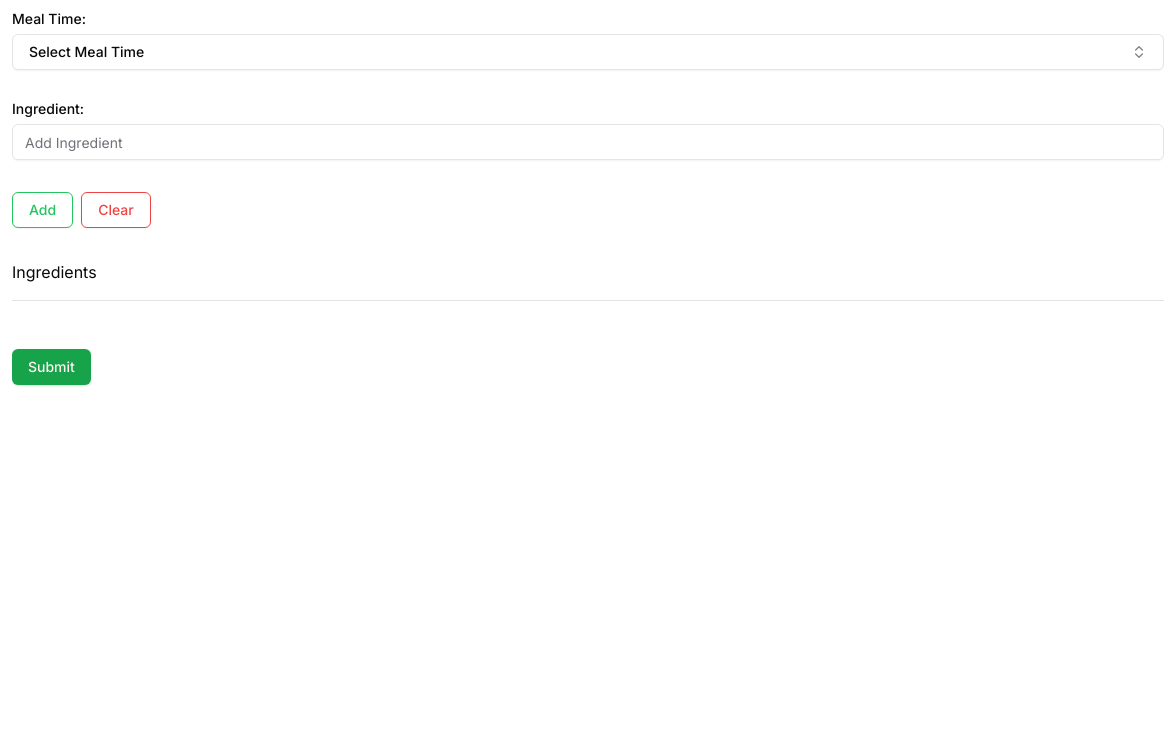
Test: CreateMealForm › clear ingredients
The image size is (1176, 732).
# Add ingredients
Type "Chicken" into the field with placeholder "Add Ingredient" at [588, 142], box [12, 124, 1164, 160]
Press Enter
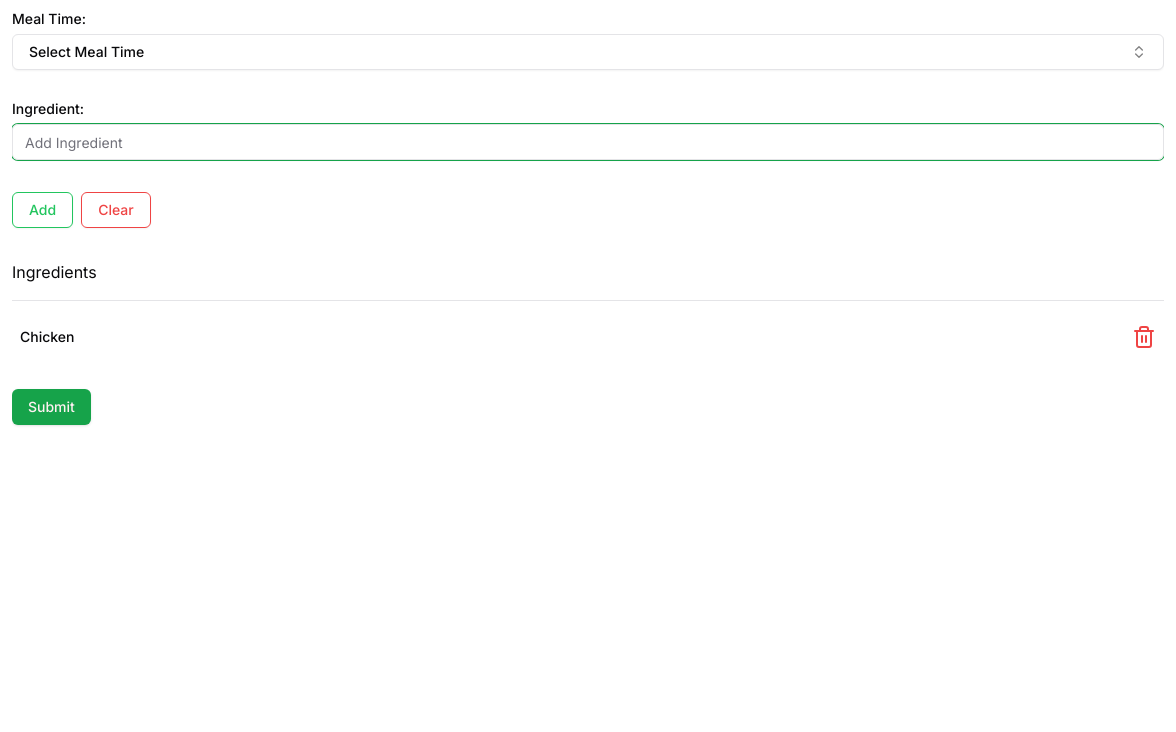
Type "Pasta" into the field with placeholder "Add Ingredient" at [588, 142], box [12, 124, 1164, 160]
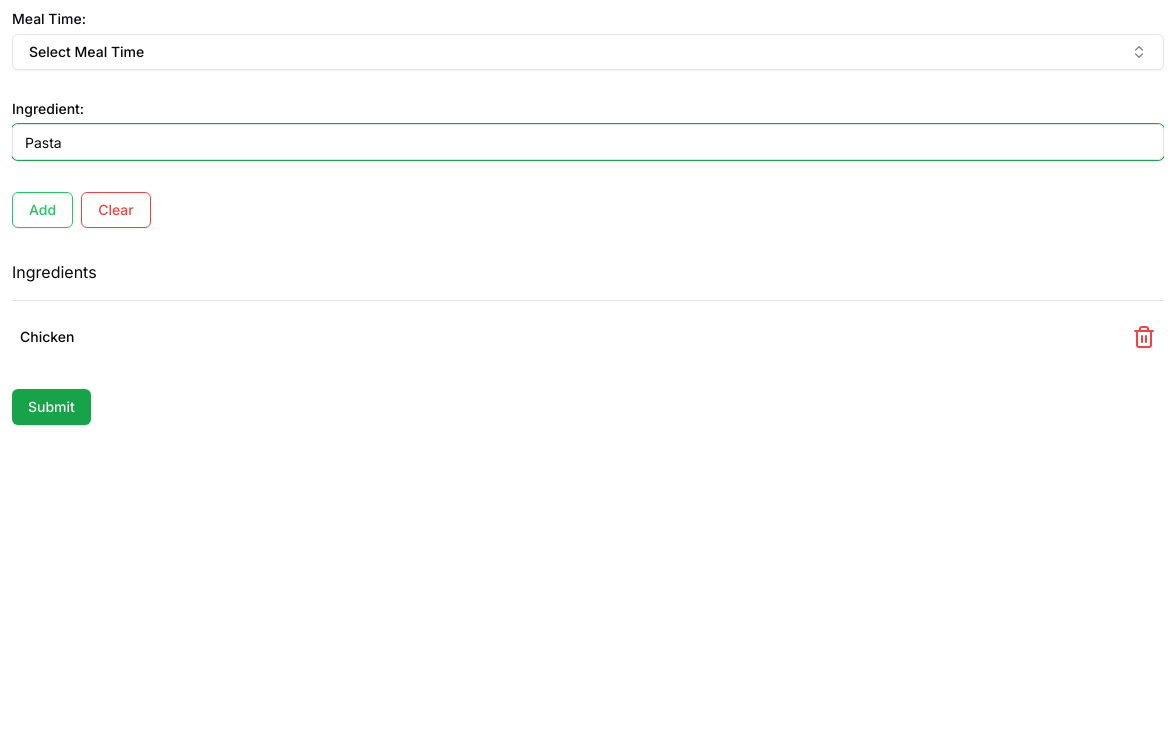
Press Enter
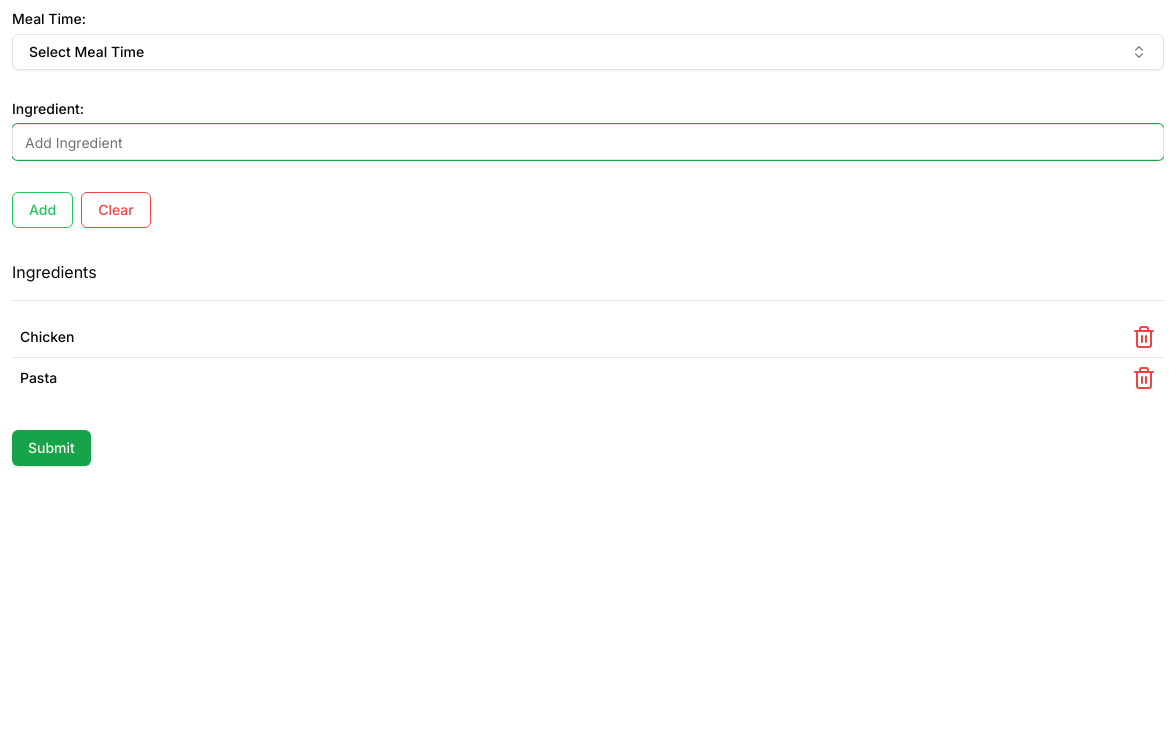
Type "Tomato" into the field with placeholder "Add Ingredient" at [588, 142], box [12, 124, 1164, 160]
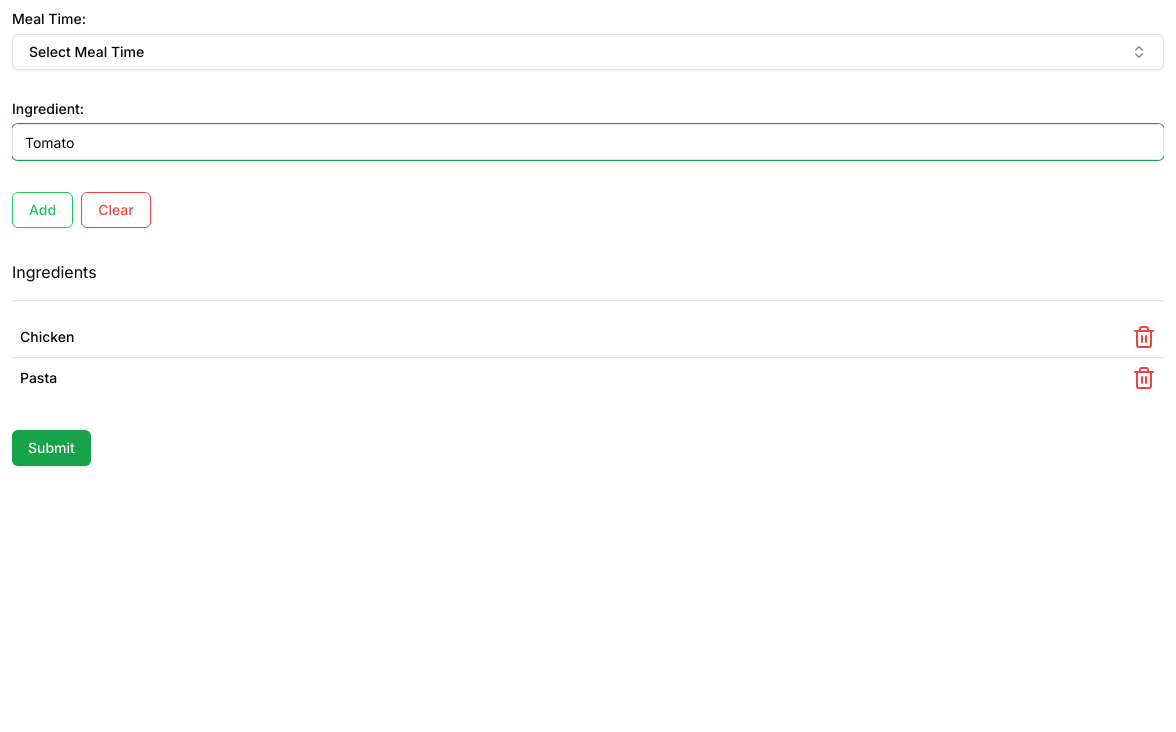
Press Enter
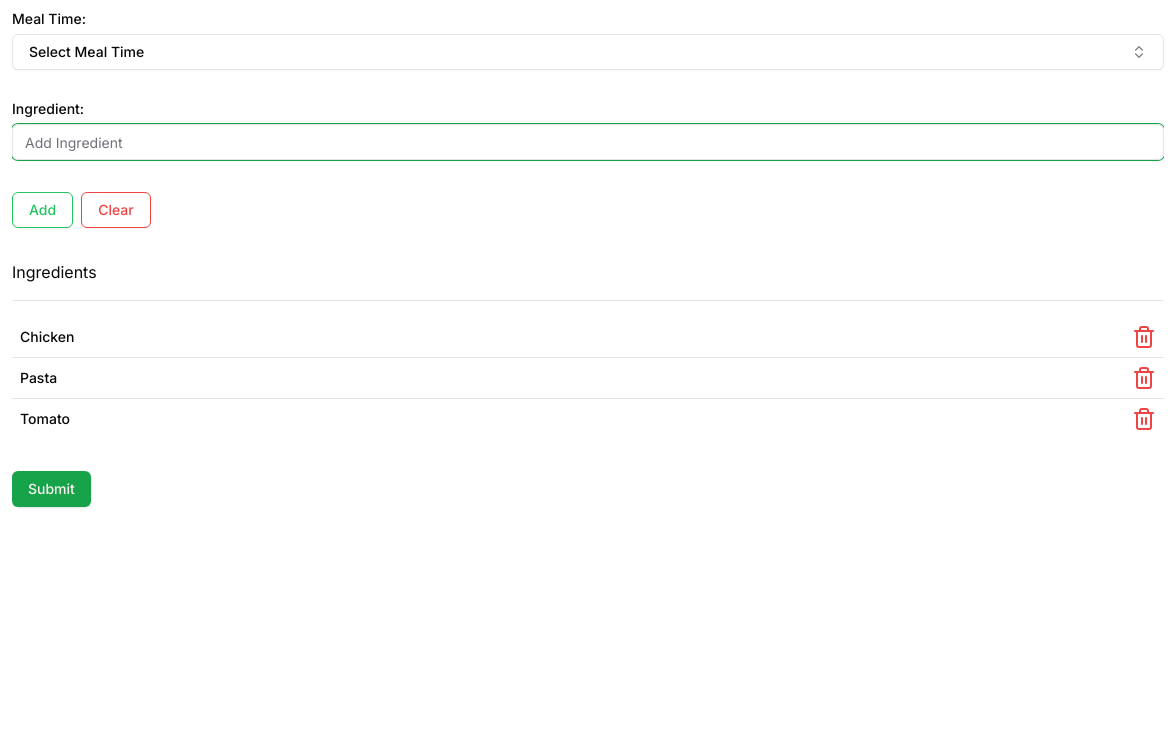
Now the table is shown, box [12, 317, 1164, 439]
Now the text "Chicken" is shown, box [12, 317, 747, 358]
Now the text "Pasta" is shown, box [12, 358, 747, 398]
Click the button "Clear" at [116, 210], box [81, 192, 151, 228]
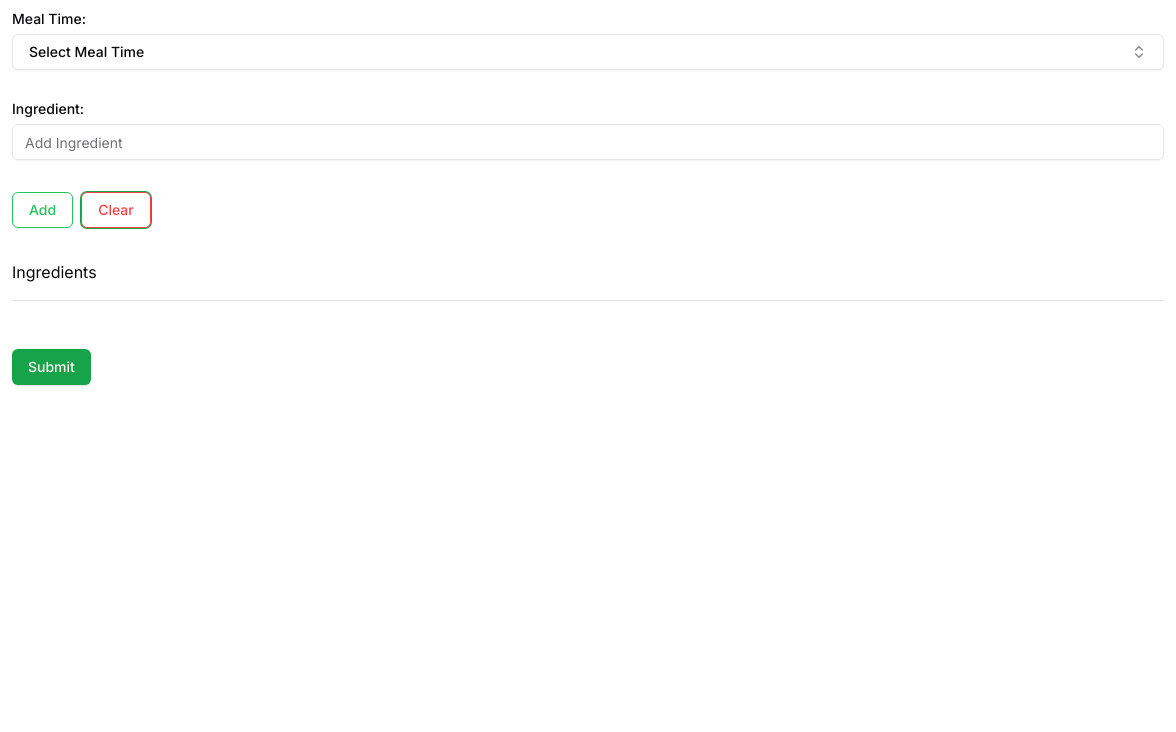
Now the text "Chicken" is gone
Now the text "Pasta" is gone
Now the text "Tomato" is gone
